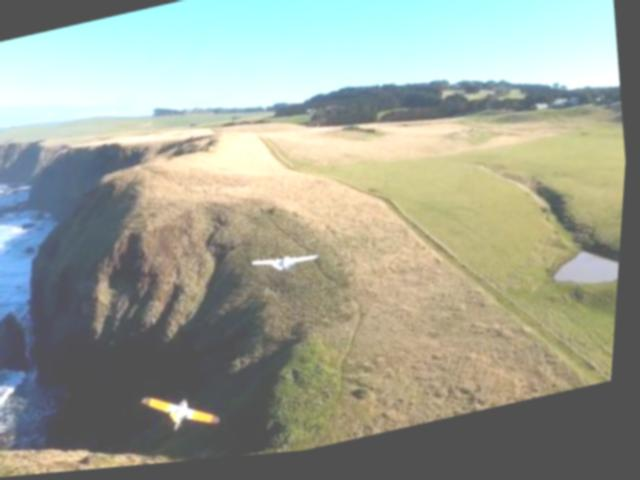uav: (144, 382, 232, 446), (250, 250, 326, 285)
